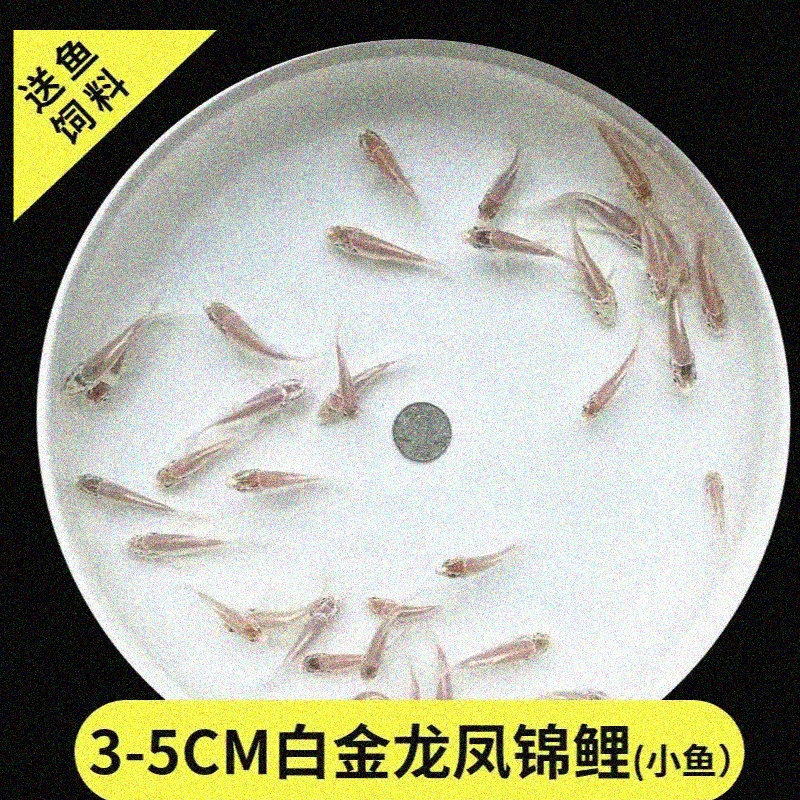fry: (194, 284, 295, 377), (317, 221, 448, 289), (206, 373, 313, 438), (560, 245, 630, 338), (564, 178, 652, 250), (67, 457, 158, 526), (53, 321, 140, 393), (360, 118, 435, 201), (593, 121, 665, 203), (464, 140, 531, 226), (688, 453, 746, 551), (459, 216, 556, 271), (688, 234, 737, 342), (460, 620, 554, 673), (566, 354, 637, 422), (118, 524, 243, 562), (224, 457, 335, 496), (663, 291, 702, 399), (431, 542, 526, 586), (364, 586, 456, 631), (295, 640, 379, 689), (146, 437, 225, 487), (282, 591, 350, 649), (634, 219, 676, 312), (209, 597, 271, 655), (655, 218, 700, 296), (79, 363, 136, 414), (330, 340, 364, 422), (358, 618, 401, 681), (313, 372, 352, 434), (244, 601, 313, 634), (425, 642, 461, 701), (394, 663, 428, 697)
